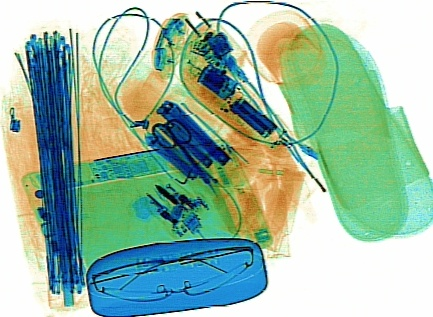scissors: (152, 117, 221, 200)
